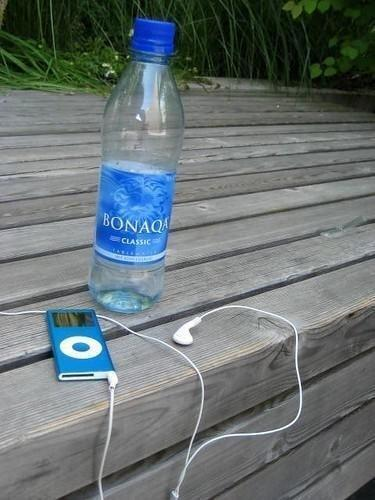bottle-plastic: (86, 16, 187, 314)
